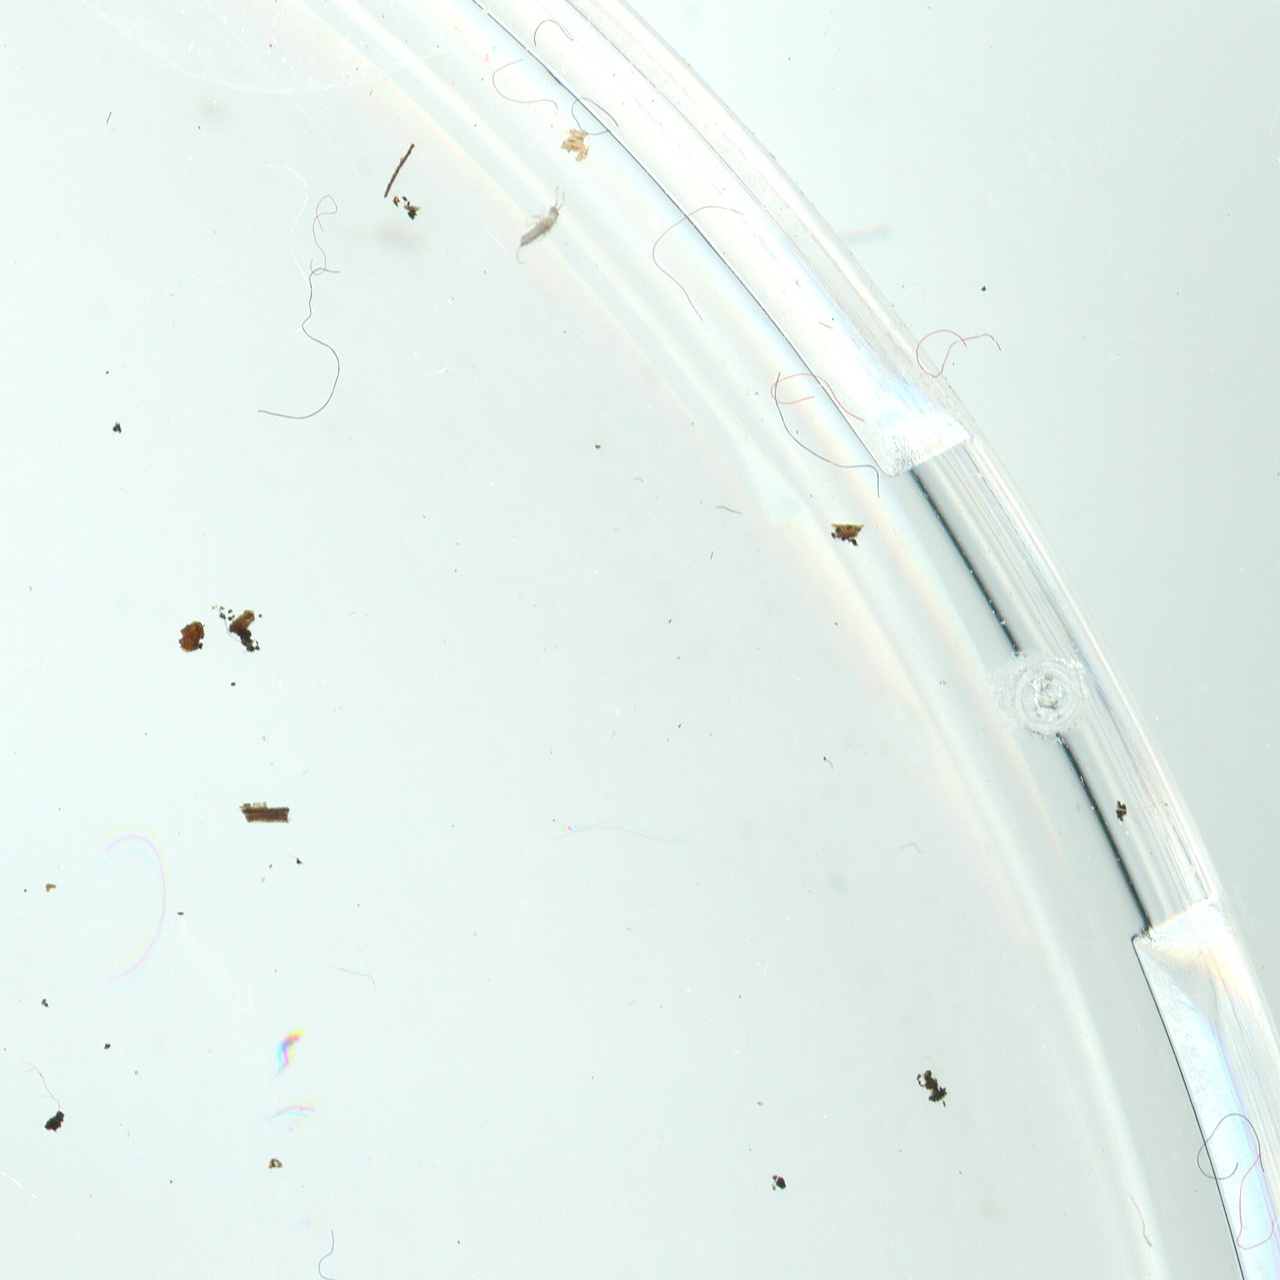arthropod: (506, 184, 572, 266)
